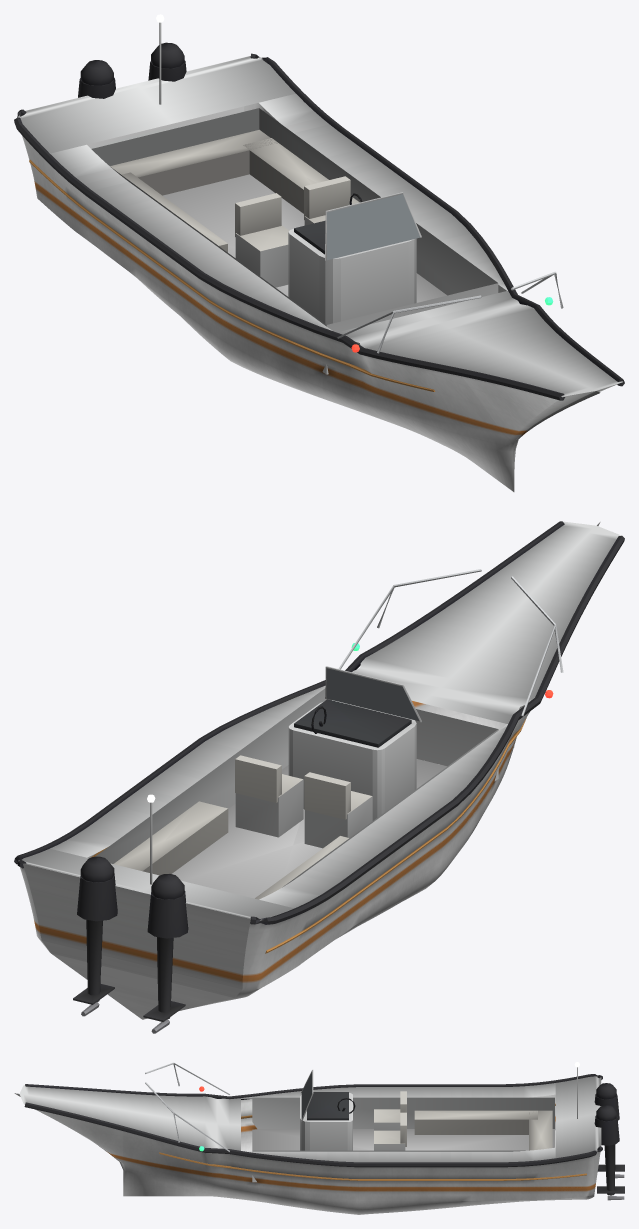
File: boot.glb
3 renders of one model, top to bottom at view 1: azimuth 30°, elevation 25°; view 2: azimuth 150°, elevation 25°; view 3: azimuth 270°, elevation 25°, orthographic. The views are drawn at different scales.
Visible parts, largest first — view 1: trim, rumpf, rund, holz; view 2: trim, rumpf, rund, holz; view 3: trim, rumpf, rund, holz.
Part boxes in pixels (box(x1,y1,x2,y2)): trim: box(18, 55, 622, 396); rumpf: box(22, 103, 619, 491); rund: box(14, 22, 624, 400); holz: box(163, 174, 446, 302); trim: box(19, 521, 621, 1021); rumpf: box(20, 522, 600, 1019); rund: box(14, 521, 624, 1033); holz: box(172, 759, 446, 898); trim: box(19, 1072, 624, 1193); rumpf: box(14, 1093, 600, 1214); rund: box(24, 1062, 624, 1200); holz: box(252, 1129, 554, 1150).
Bounding box in the file's own units: 3.38 × 2.67 × 10.9.
5 materials, 1 textured.
